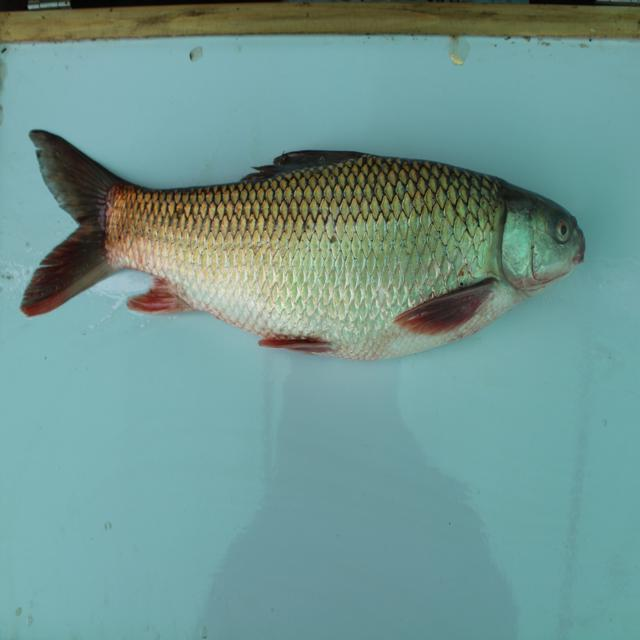Mori: (26, 106, 582, 380)
